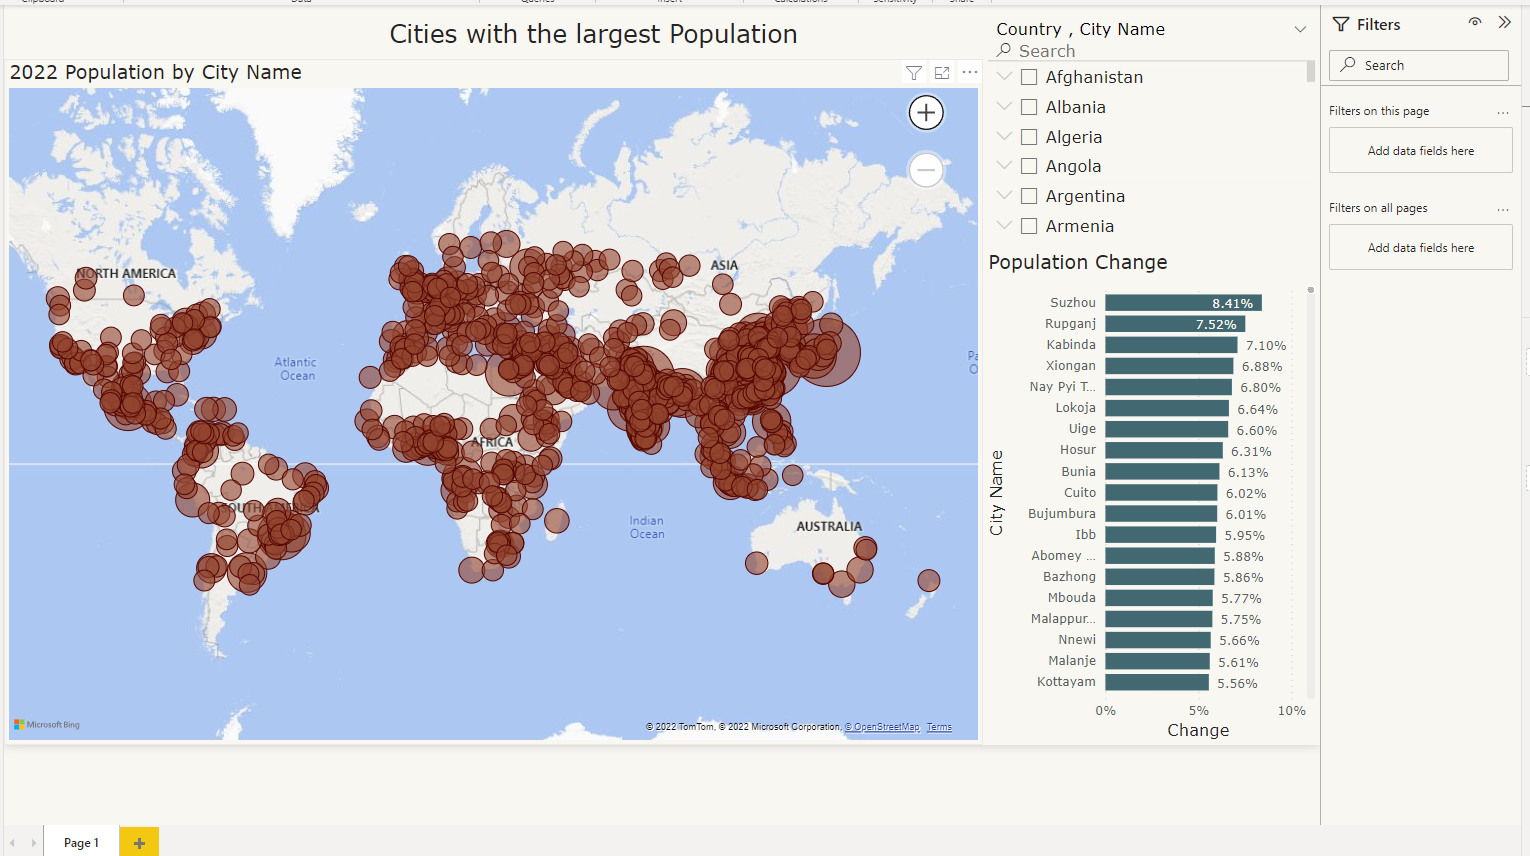

This screenshot's page, from the dashboard's own definition file:
{"tool":"powerbi","page":{"name":"Page 1","canvas":[1280,720],"ordinal":0},"visuals":[{"type":"textbox","box":[370.1,7.9,425,53],"z":0},{"type":"slicer","fields":{"Values":["cities.Country  ","cities.City Name"]},"box":[952.1,7.9,327.9,229.7],"z":1001},{"type":"map","fields":{"Size":["Sum(cities.2022 Population  )"],"Category":["cities.City Name"]},"box":[0,53,952.1,666.5],"z":1002},{"type":"barChart","title":"Population Change","fields":{"Y":["Sum(cities.Change  )"],"Category":["cities.City Name"]},"box":[952.1,237.5,327.9,482],"z":1003}]}

Visuals, with their boxes on the page's 1280x720 design canvas (x1, y1, x2, y2). These are canvas units, not pixel positions in the 1530x856 screenshot, which may show the page scaled, cropped or inside an application window:
textbox: <region>370, 8, 795, 61</region>
slicer - cities.Country   x cities.City Name: <region>952, 8, 1280, 238</region>
map - Sum(cities.2022 Population  ) x cities.City Name: <region>0, 53, 952, 720</region>
"Population Change" barChart: <region>952, 238, 1280, 720</region>
